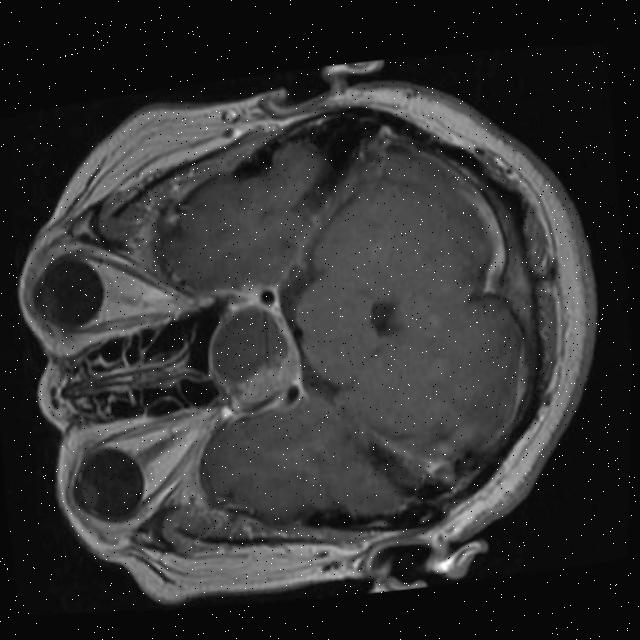Pituitary: (201, 301, 295, 409)
